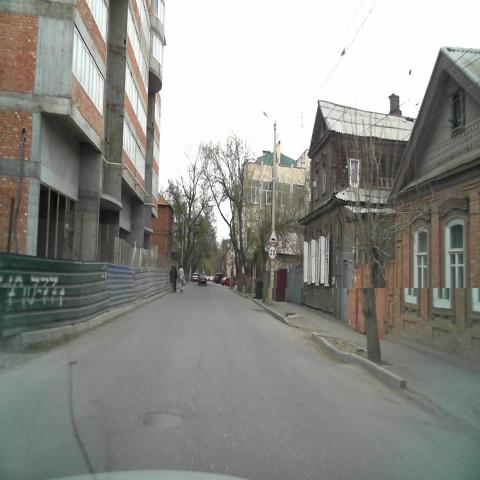1_17: (268, 227, 278, 244)
